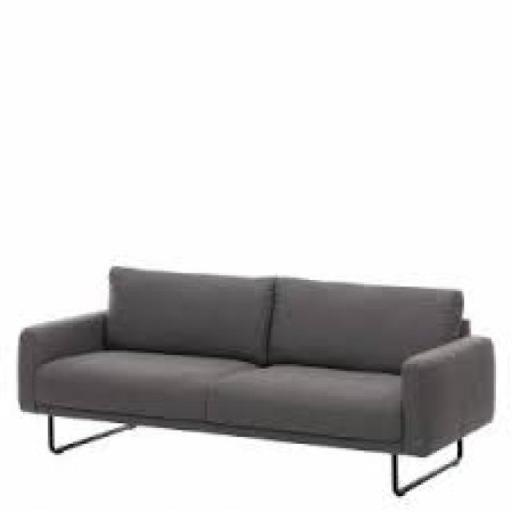sofa: (10, 245, 511, 512)
